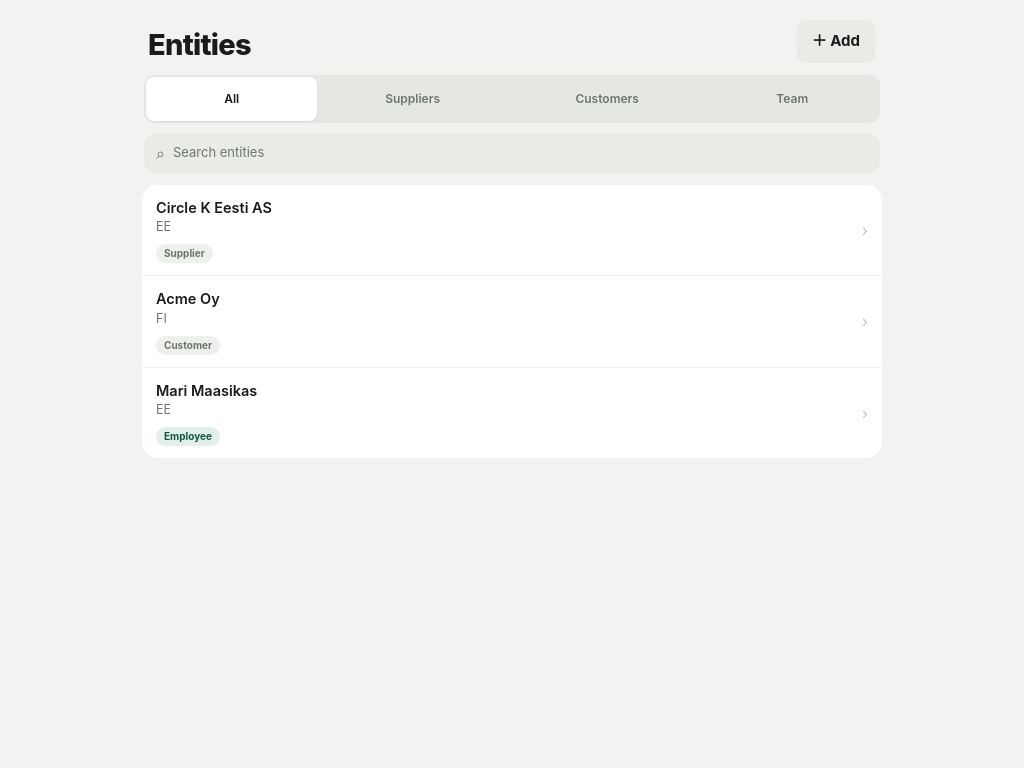
Test: EntitiesScreen › create sheet resets across open/close/reopen (remount-on-open discipline)
The image size is (1024, 768).
Expected: the text "Circle K Eesti AS" is shown, [156,198,272,216]
Click the button "＋ Add". click: (836, 41)
box: [796,20,876,62]
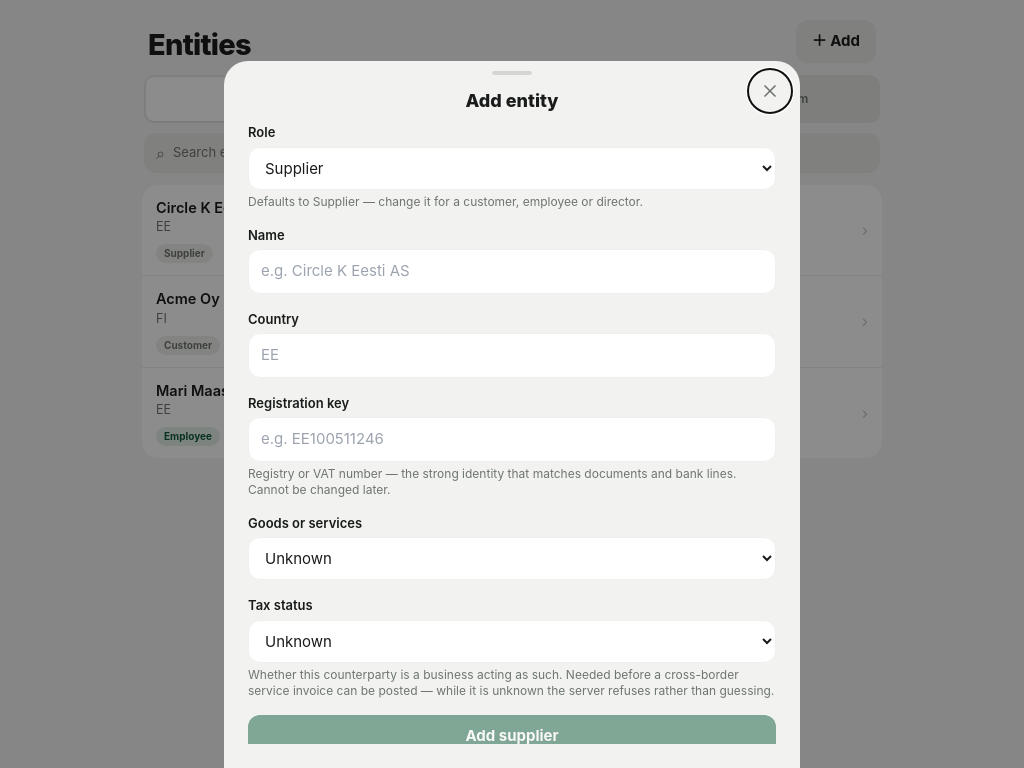
Type "Half-typed OÜ" into the field labelled "Name". click: (512, 272)
box: [248,250,776,294]
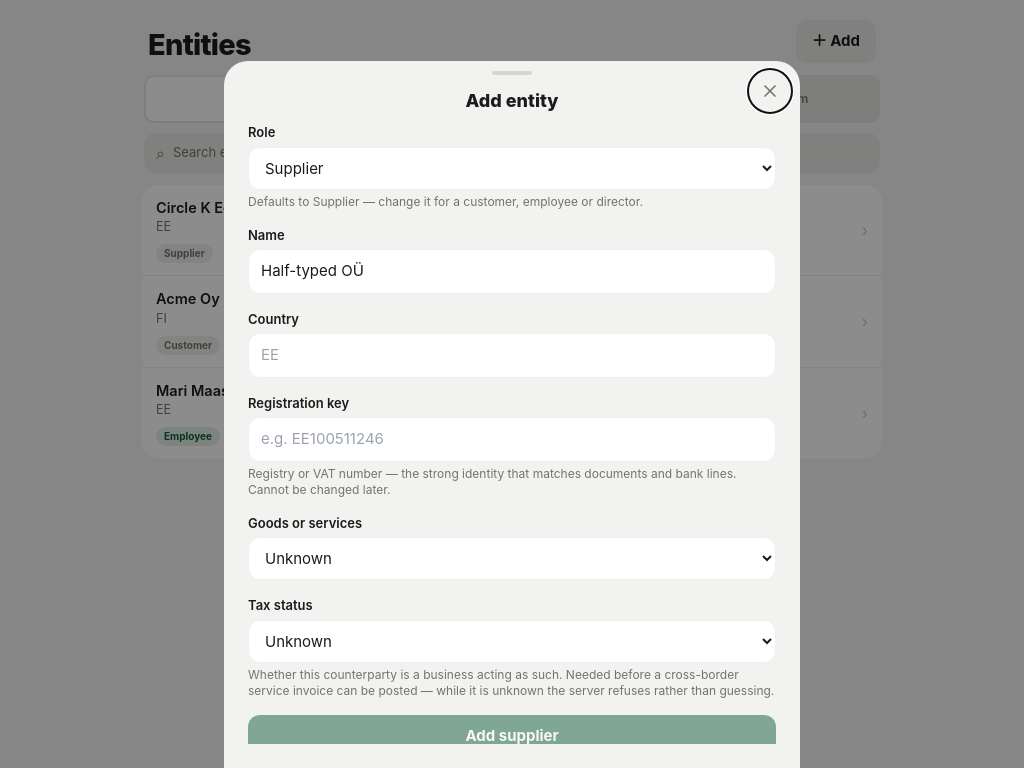
Select "Employee" in the dropdown labelled "Role". click: (512, 168)
box: [248,147,776,190]
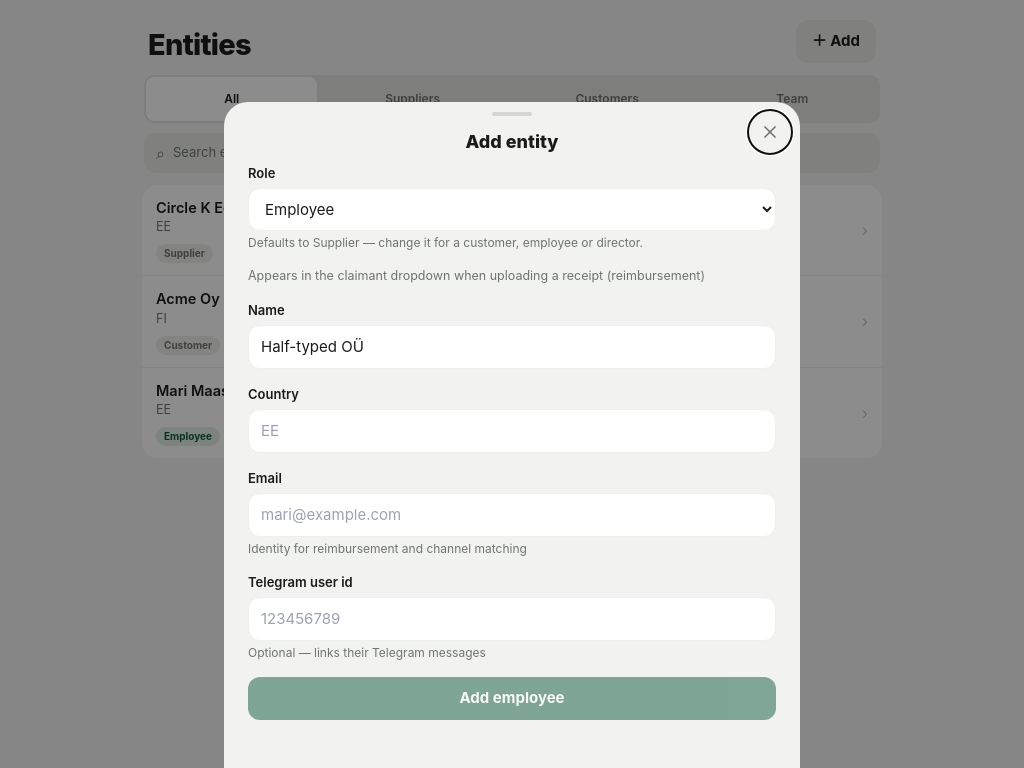
Press Escape
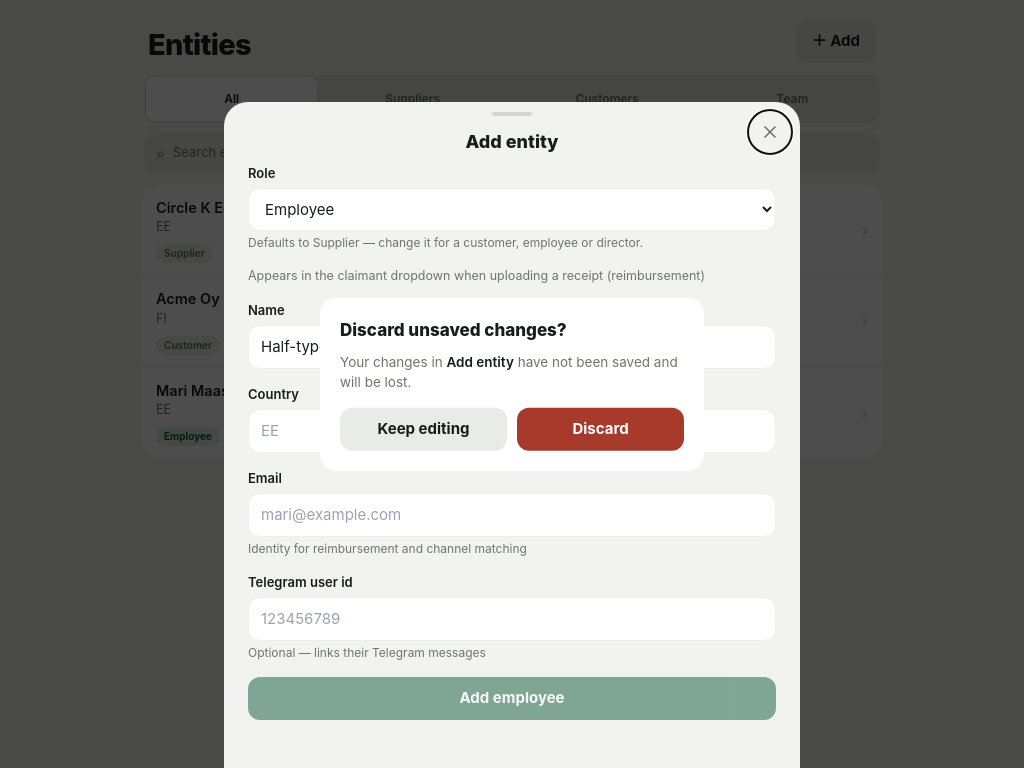
Dirty: the guard asks first (issue #250) — discard it.
Click the button "Discard". click: (600, 429)
box: [517,408,684,450]
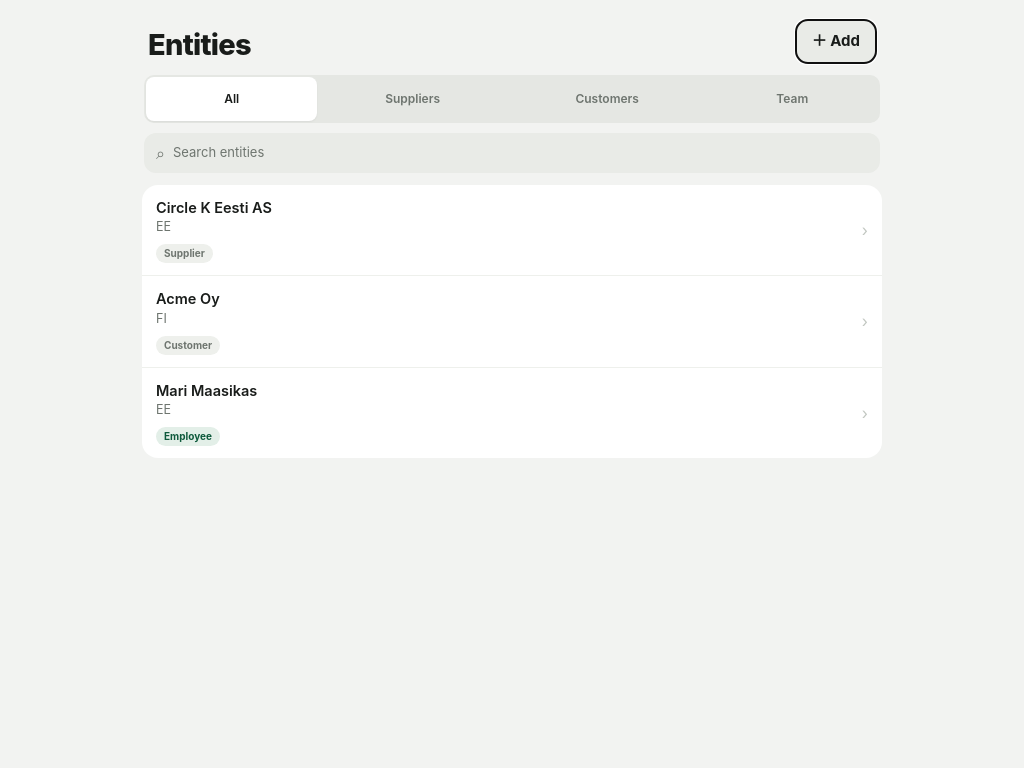
Result: the text labelled "Name" is gone
Click the button "＋ Add". click: (836, 41)
box: [796,20,876,62]
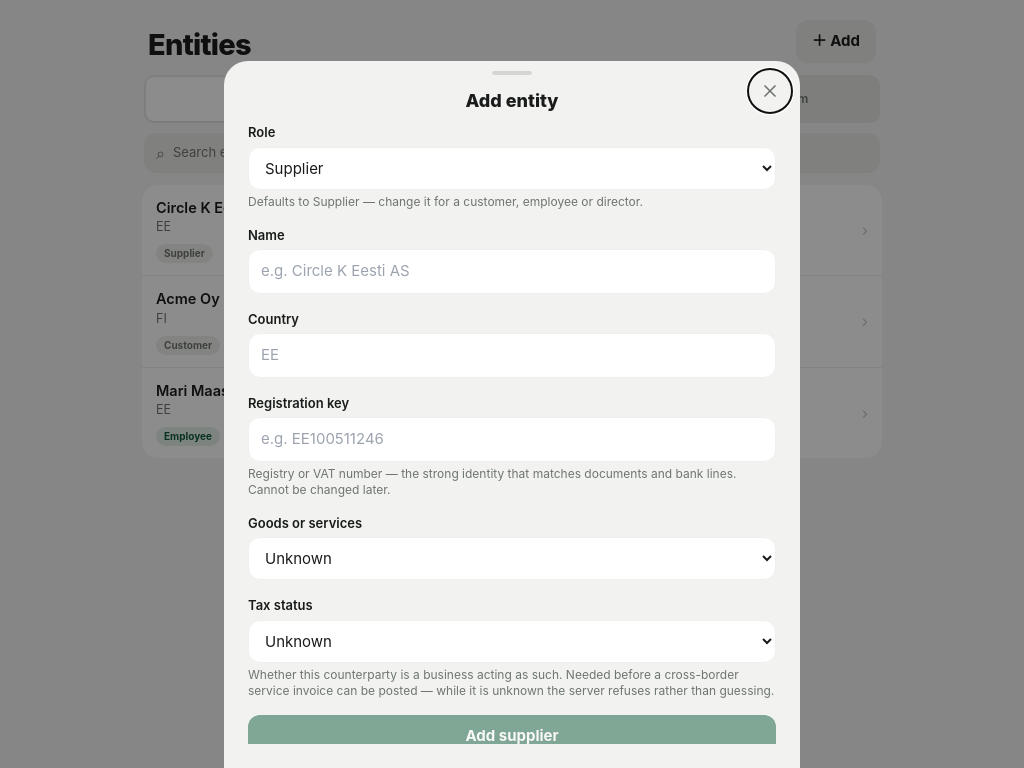
Result: the field labelled "Name" is empty at [248,250,776,294]
Result: the dropdown labelled "Role" shows "Supplier" at [248,147,776,190]
